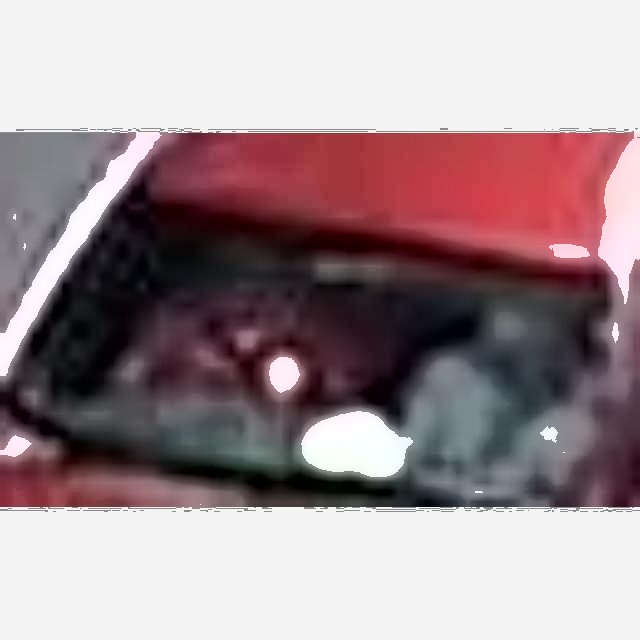pakai: (384, 310, 591, 487), (138, 241, 325, 419)
